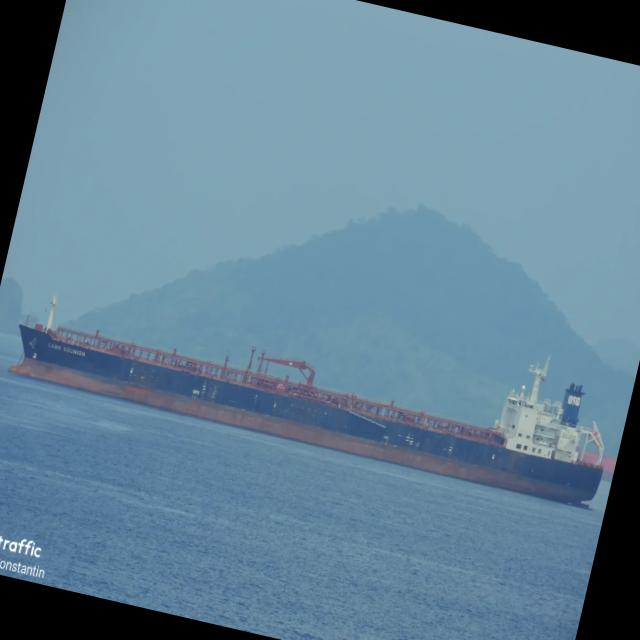Tanker: (8, 296, 602, 504)
